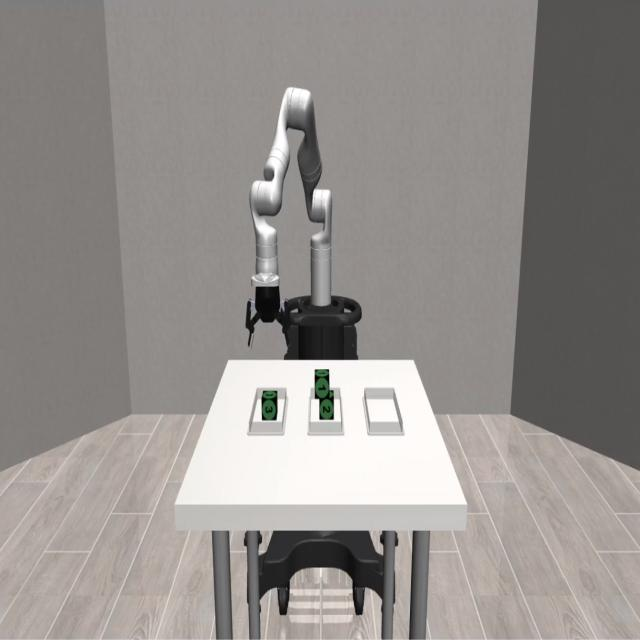cube1: (314, 368, 330, 398)
cube2: (318, 391, 335, 422)
cube3: (261, 389, 278, 421)
